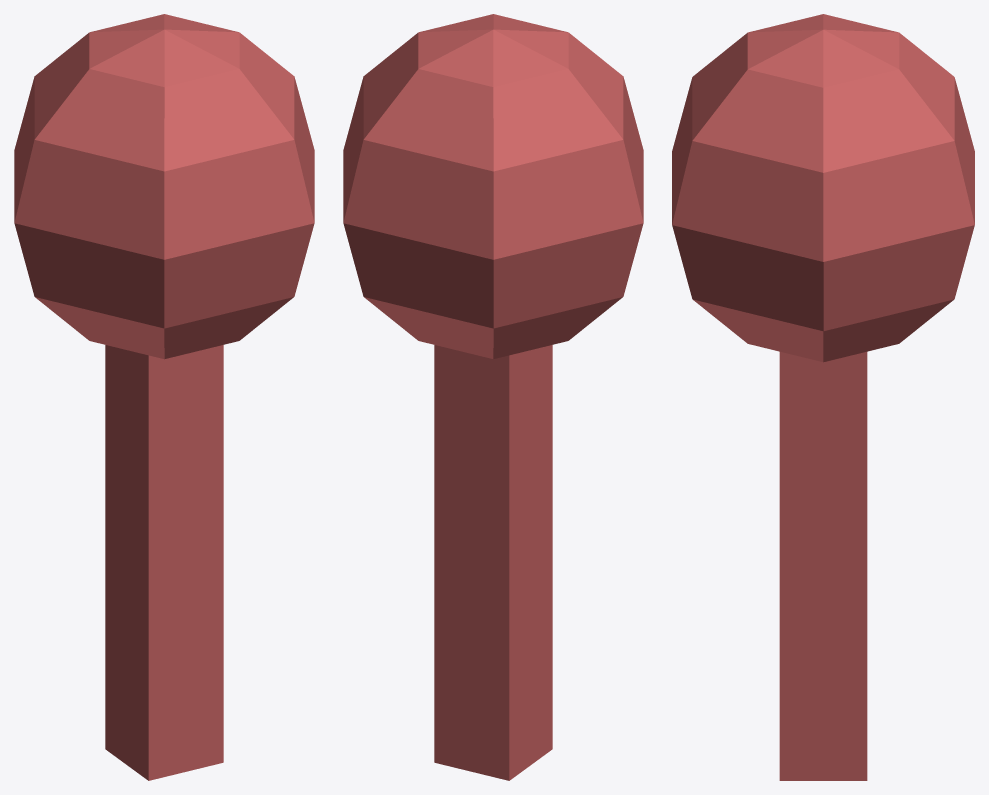
File: SOUND.OBJ
3 renders of one model, left to right at view 1: azimuth 30°, elevation 25°; view 2: azimuth 150°, elevation 25°; view 3: azimuth 270°, elevation 25°, orthographic.
Parts seen in each view (by area): view 1: SOUND; view 2: SOUND; view 3: SOUND.
Boxes of the visible parts, x1=… form: SOUND: x1=14, y1=14, x2=314, y2=780; SOUND: x1=343, y1=14, x2=643, y2=780; SOUND: x1=672, y1=14, x2=974, y2=780.
Bounding box in the file's own units: 0.4 × 0.925 × 0.3464.
